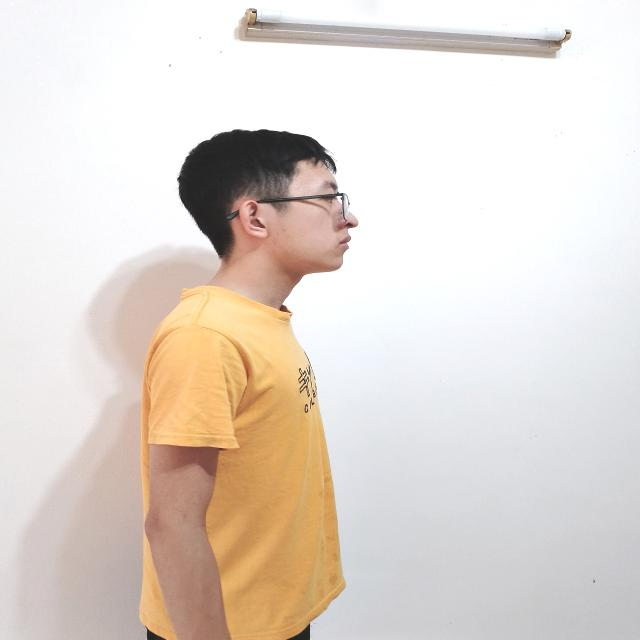person_without_labcoat: (140, 130, 358, 640)
